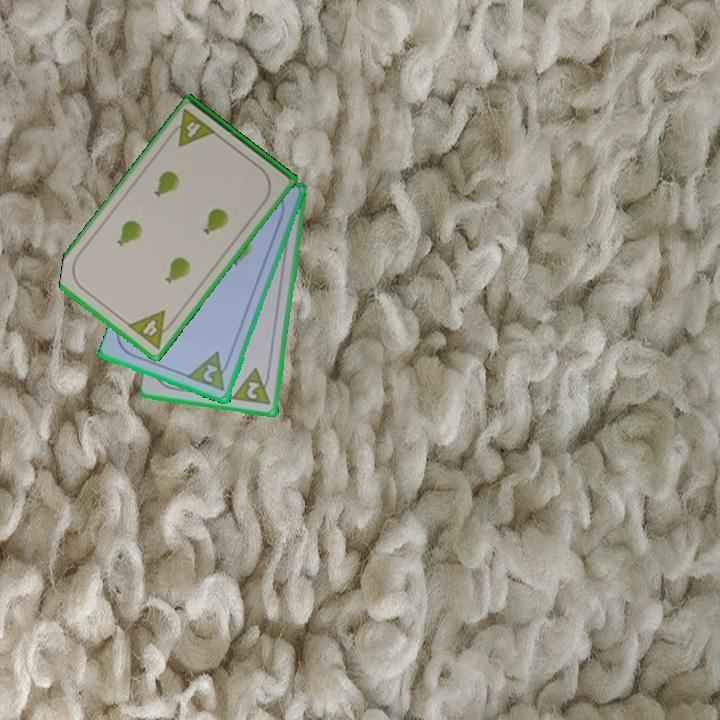2p: (230, 365, 274, 408), (200, 361, 221, 386)
4p: (124, 307, 179, 352), (165, 106, 219, 150)
